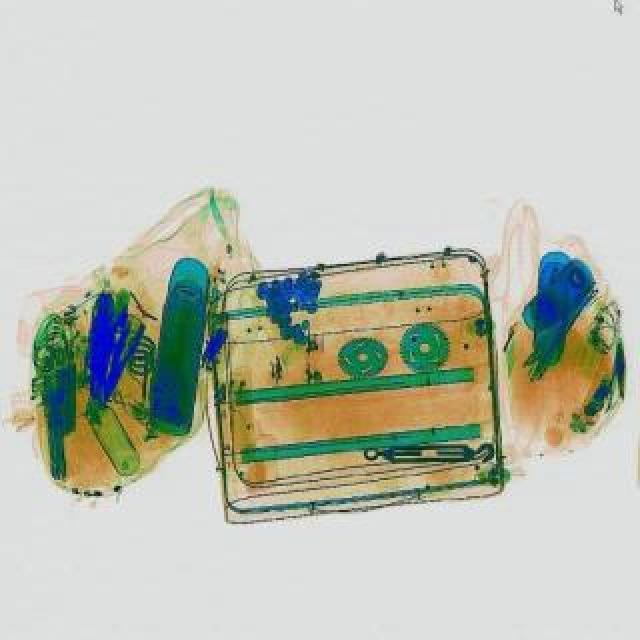wrench: (92, 316, 148, 404)
